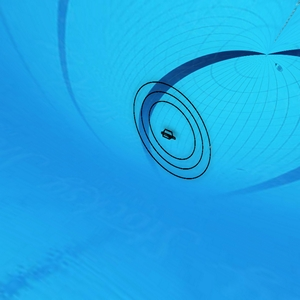circle: (126, 75, 216, 184)
submarine: (160, 128, 171, 137)
